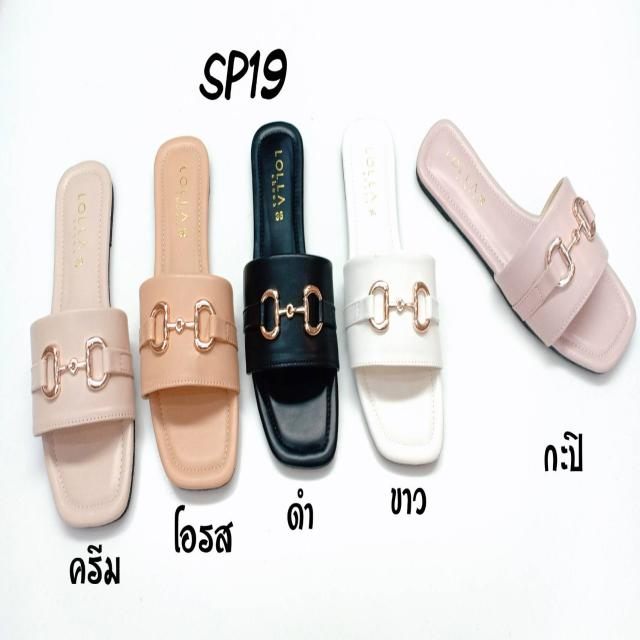black: (249, 119, 338, 471)
cream: (43, 160, 133, 510)
kapi: (416, 116, 632, 378)
orot: (149, 138, 237, 484)
white: (343, 121, 441, 462)
